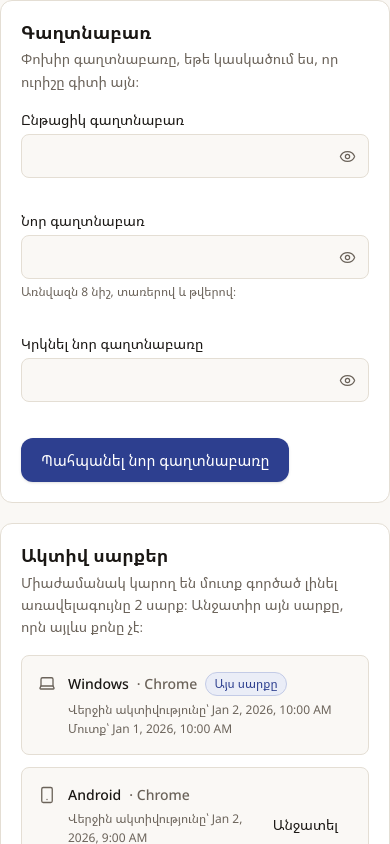
SecuritySection — devices › confirms before disconnecting, then removes the device from the list
Expected: the text "Android · Chrome" is shown, x1=68 y1=785 x2=190 y2=804
Click the button "Անջատել" at [305, 825], box x1=259 y1=807 x2=352 y2=843
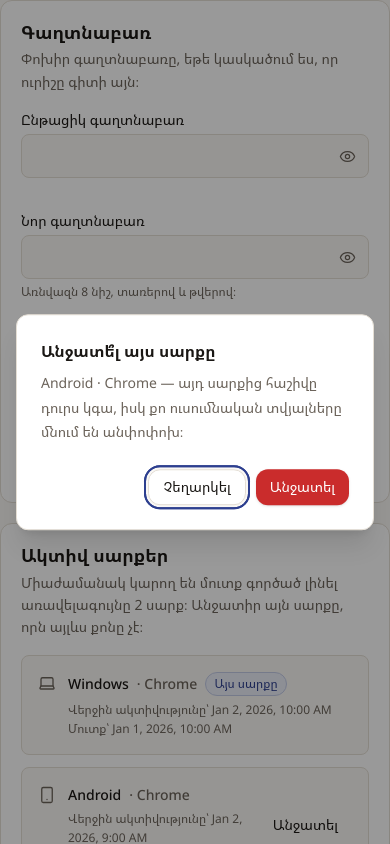
Result: the dialog shows "Անջատե՞լ այս սարքը" at x1=41 y1=340 x2=216 y2=362
Click the button "Անջատել" at [302, 487], box x1=256 y1=469 x2=349 y2=505
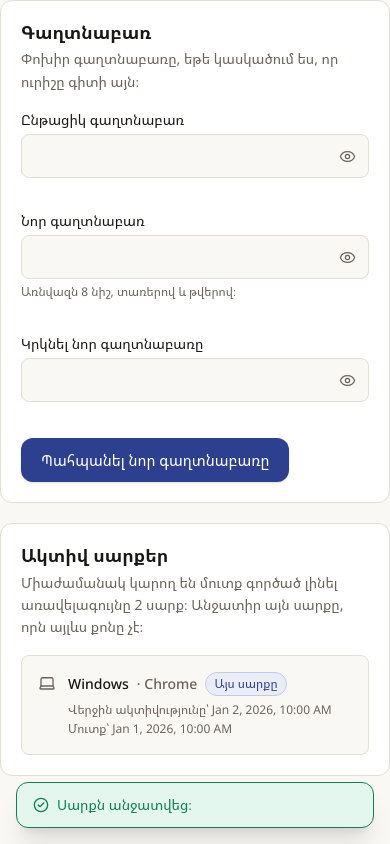
Expected: the text "Windows · Chrome Այս սարքը" is shown, x1=68 y1=672 x2=287 y2=696
Result: the text "Android" is gone
